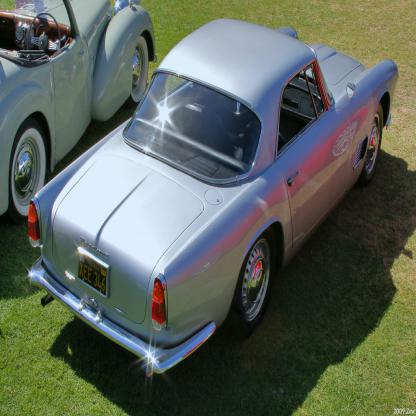Car: (26, 19, 399, 375), (0, 0, 158, 223)
